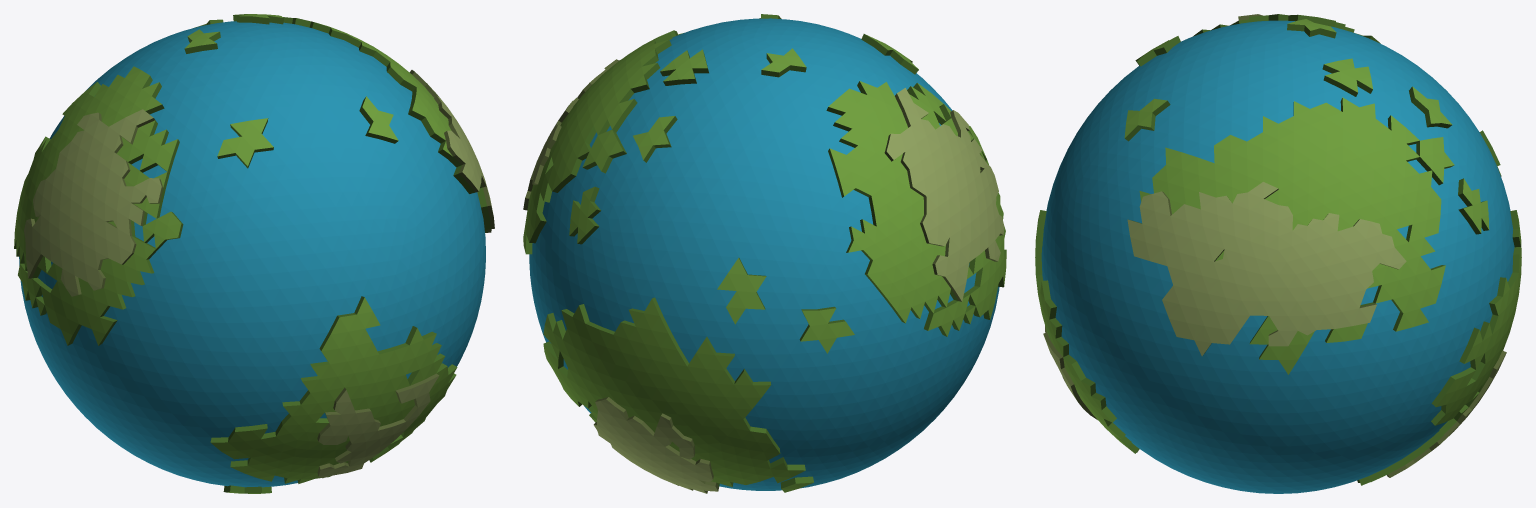
The model's file is earth.glb.
3 views of the same model, side by side, from view 1: azimuth 30°, elevation 25°; view 2: azimuth 150°, elevation 25°; view 3: azimuth 270°, elevation 25° (orthographic).
Visible parts, largest first — view 1: Earth; view 2: Earth; view 3: Earth.
Part boxes in pixels (x1,y1,x2,y2): Earth: [14, 14, 494, 493]; Earth: [523, 14, 1006, 493]; Earth: [1035, 14, 1521, 493].
Size of the model in its own units: 8.31 by 8.06 by 8.22.
